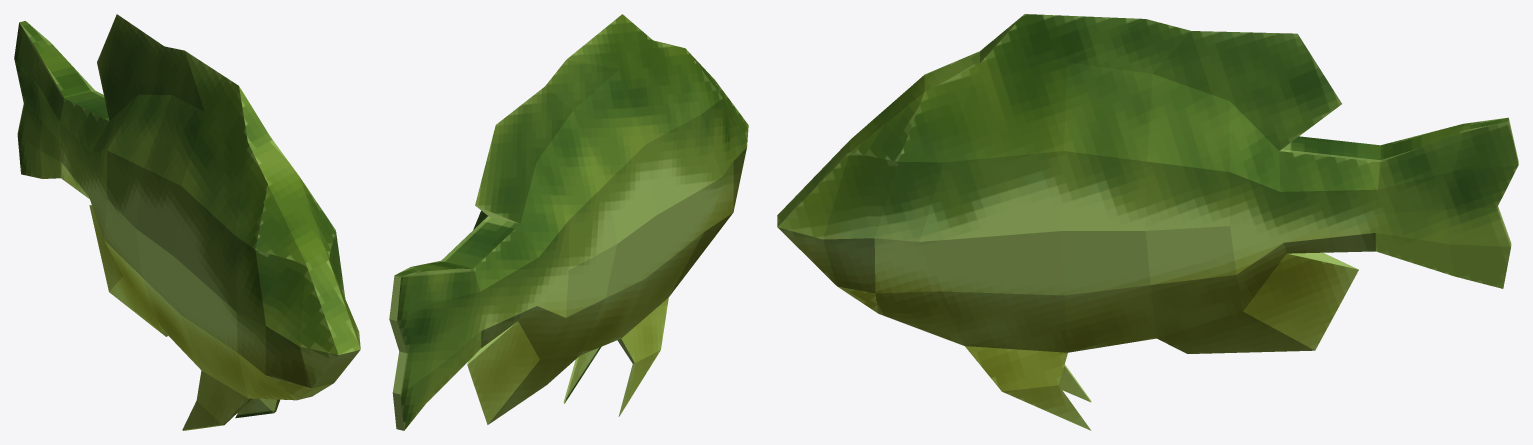
The model's file is bluegill_WIP.fbx.
The picture shows the model from 3 angles, left to right: view 1: azimuth 30°, elevation 25°; view 2: azimuth 150°, elevation 25°; view 3: azimuth 270°, elevation 25°; orthographic projection. The views are drawn at different scales.
Parts seen in each view (by area): view 1: Cube.015; view 2: Cube.015; view 3: Cube.015.
Boxes of the visible parts, x1=… form: Cube.015: x1=14, y1=14, x2=360, y2=430; Cube.015: x1=389, y1=14, x2=748, y2=430; Cube.015: x1=777, y1=14, x2=1518, y2=430.
Size of the model in its own units: 70.91 by 249 by 416.
